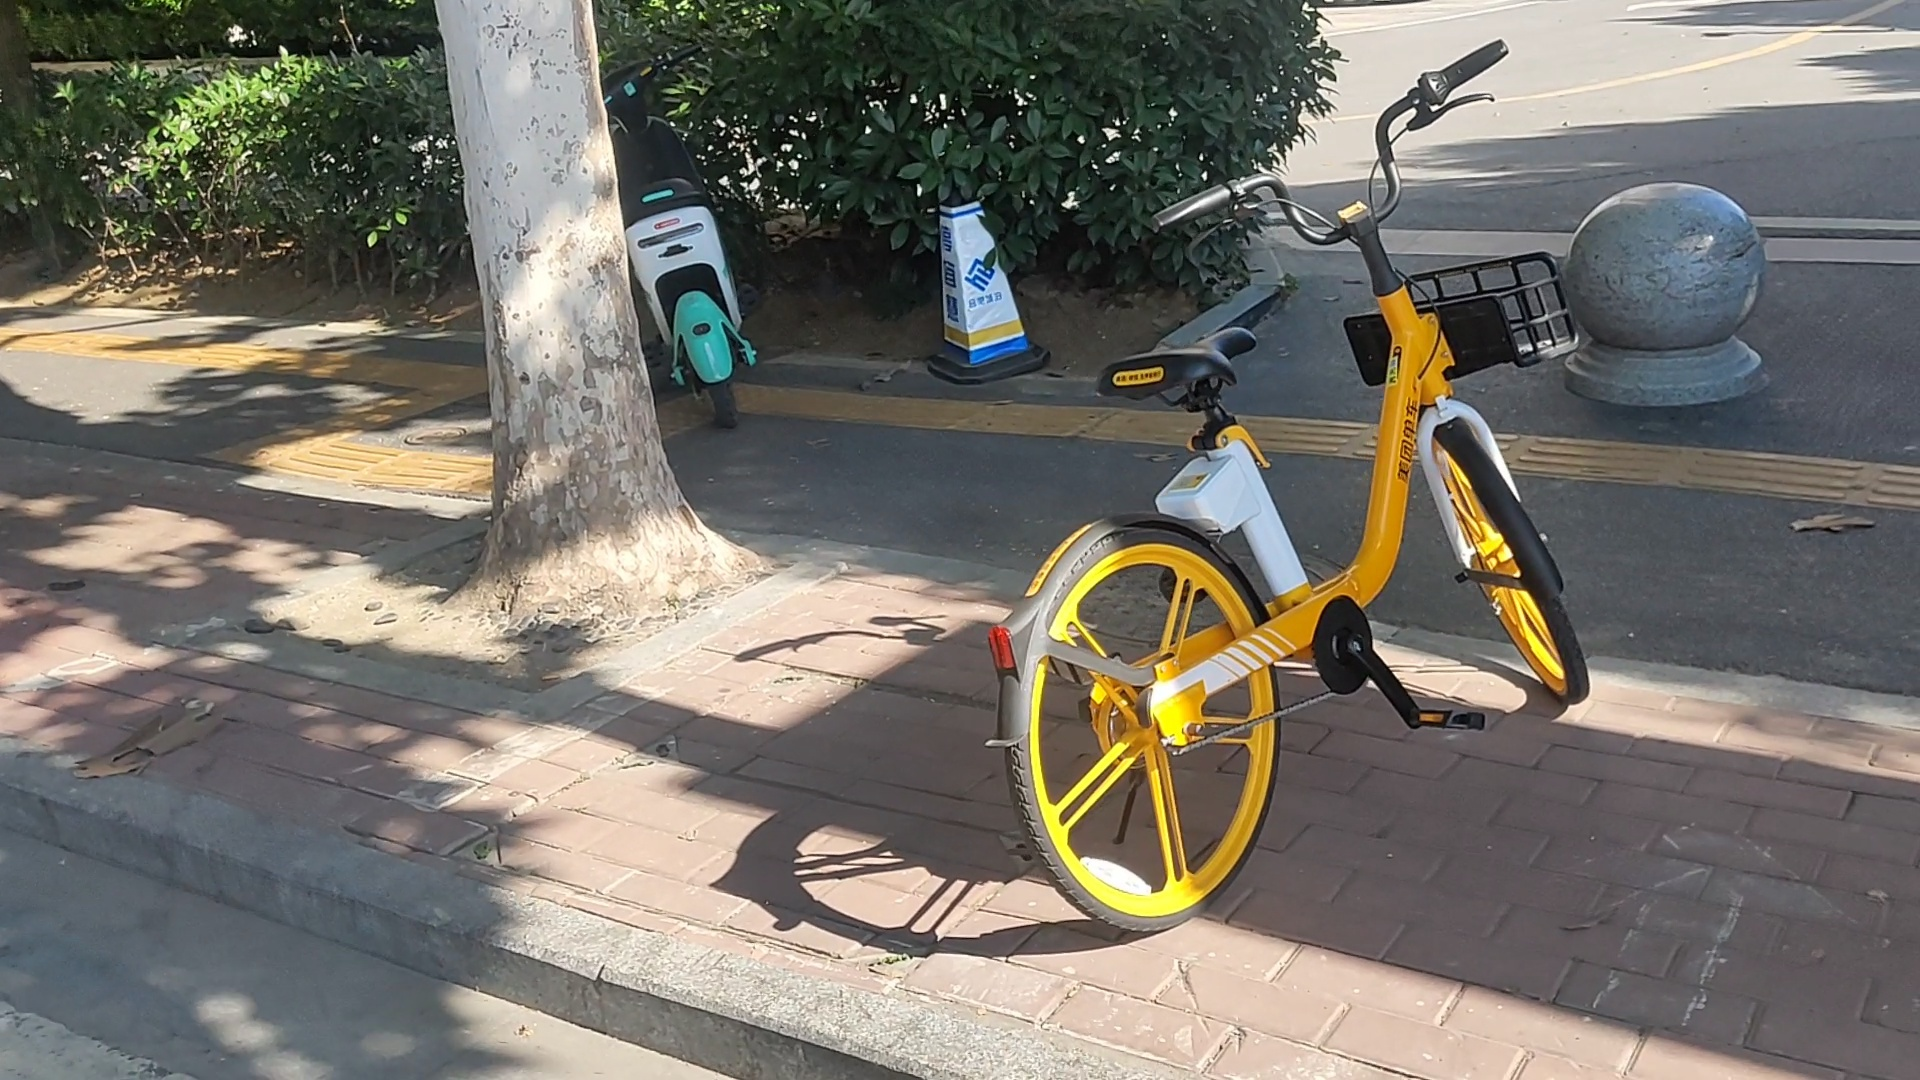non-vehicle: (982, 38, 1600, 936), (603, 42, 770, 433)
